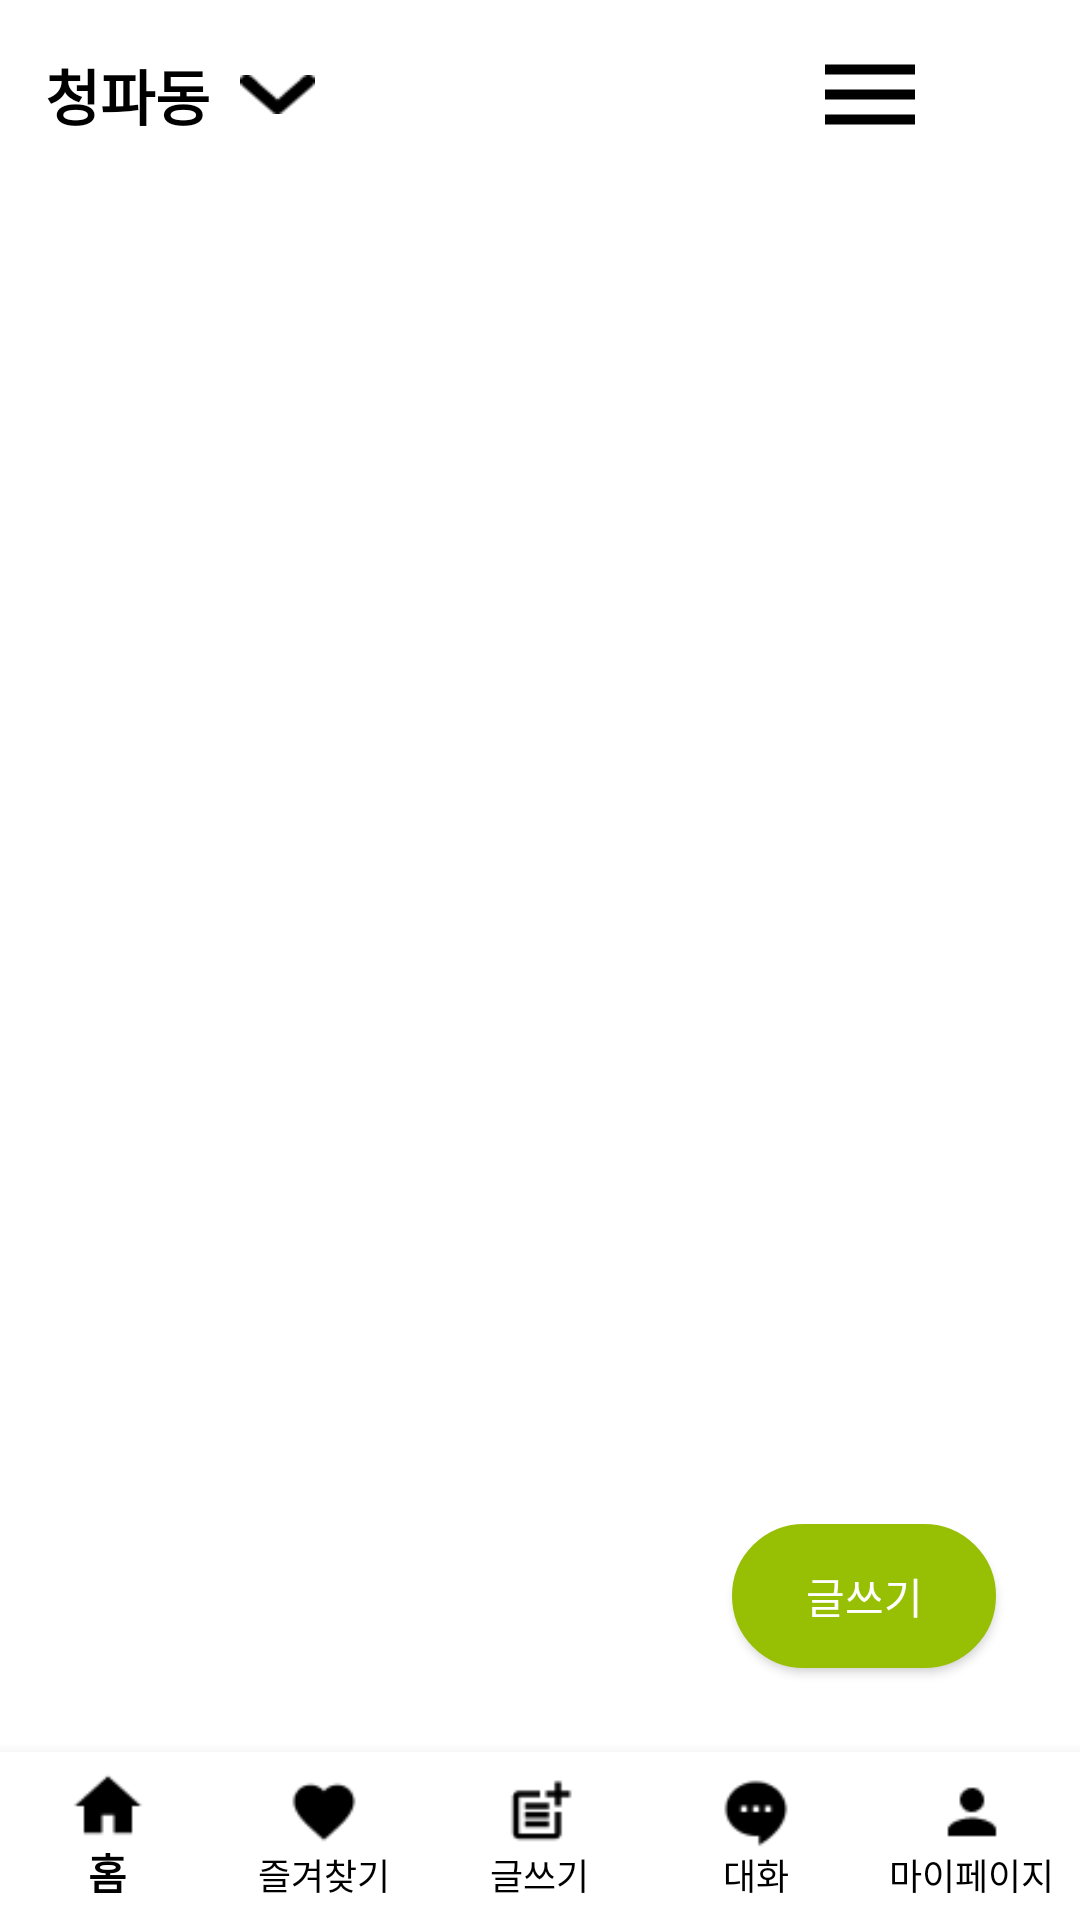

Icon click points for this 1080 x 1920 phone screenshot, format (x,y):
dropdown: (277,94)
menu: (870,94)
